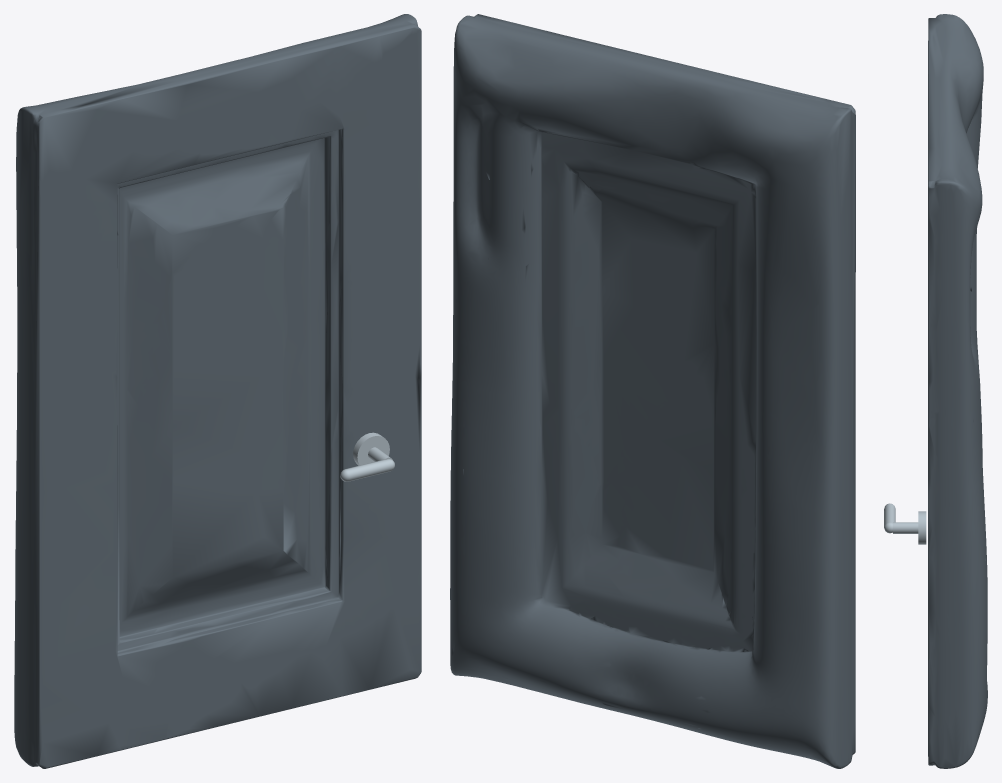
The picture shows the model from 3 angles, left to right: view 1: azimuth 30°, elevation 25°; view 2: azimuth 150°, elevation 25°; view 3: azimuth 270°, elevation 25°; orthographic projection. The views are drawn at different scales.
Parts seen in each view (by area): view 1: material, object 2, object 4; view 2: material; view 3: material, object 3, object 4, object 2.
Boxes of the visible parts, x1,y1,x2,y2 form: material: (14, 14, 421, 768); object 2: (353, 432, 389, 465); object 4: (340, 459, 394, 481); material: (450, 14, 855, 768); material: (928, 14, 987, 768); object 3: (893, 522, 918, 533); object 4: (884, 503, 895, 533); object 2: (918, 511, 926, 544).
Bounding box in the file's own units: 0.6175 × 1 × 0.1602.
